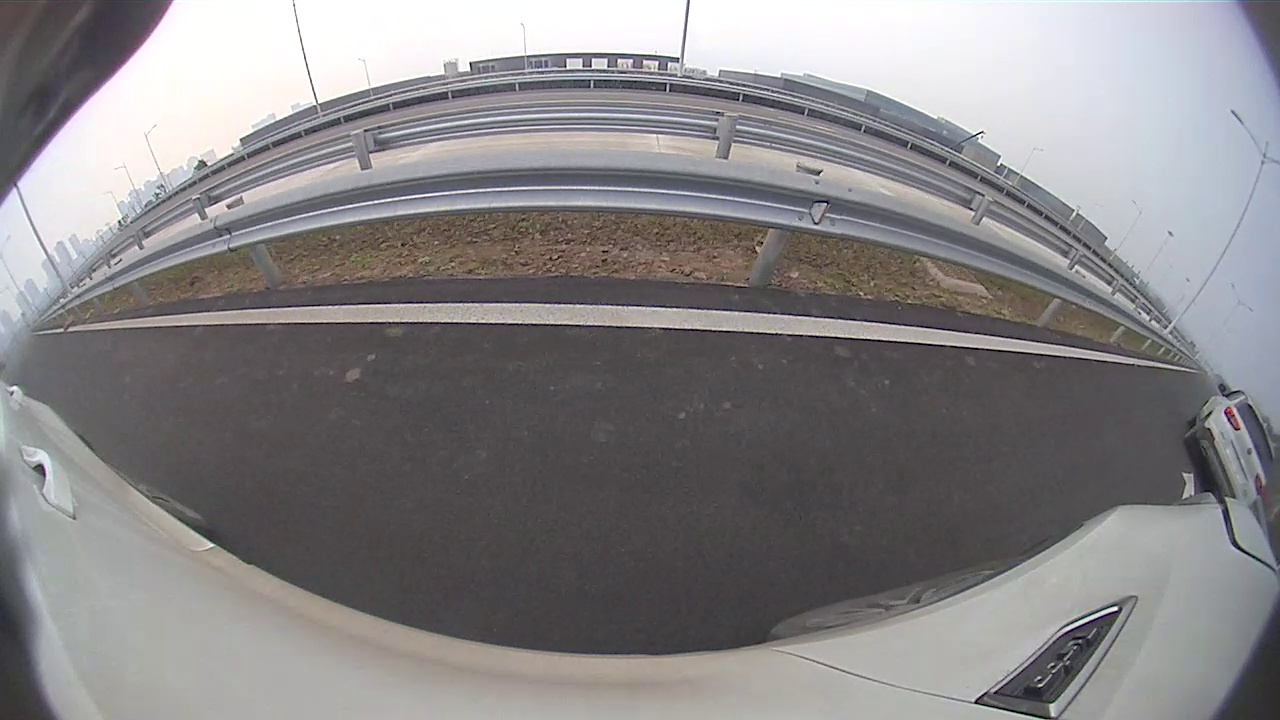car: (575, 132, 662, 210)
